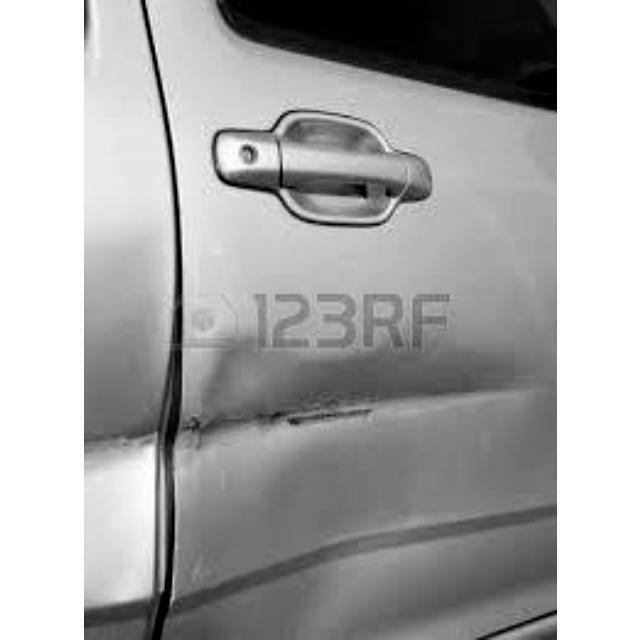doorouter-dent: (177, 21, 512, 638)
